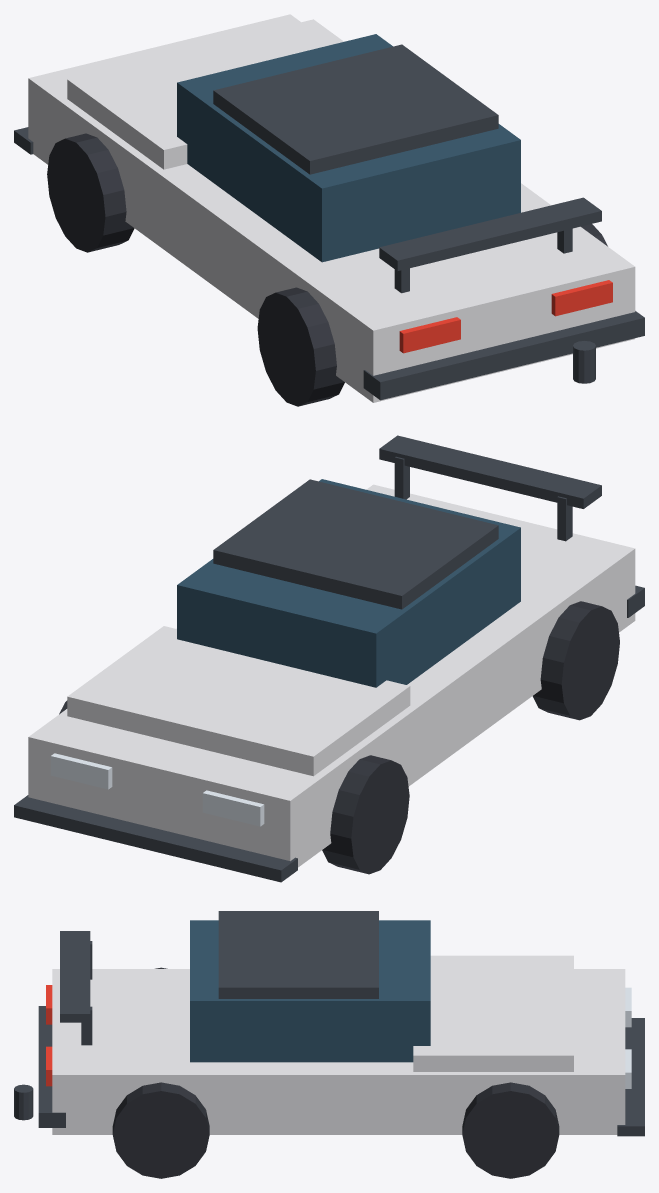
The model's file is falcon_r.glb.
3 views of the same model, one above another, from view 1: azimuth 30°, elevation 25°; view 2: azimuth 150°, elevation 25°; view 3: azimuth 270°, elevation 25° (orthographic). The views are drawn at different scales.
Visible parts, largest first — view 1: body, cabin, roof, hood, wheel_fl, wheel_rl, rear_bumper, spoiler, taillight_0.5277999999999999, taillight_-0.5277999999999999, exhaust; view 2: body, cabin, hood, roof, wheel_fl, wheel_rl, front_splitter, spoiler, headlight_-0.5277999999999999, headlight_0.5277999999999999, spoiler_l; view 3: body, cabin, hood, roof, wheel_fr, wheel_rr, spoiler, front_splitter, rear_bumper, exhaust.
Part boxes in pixels (x1,y1,x2,y2): body: (28,14,635,402); cabin: (177,34,520,262); roof: (213,44,498,174); hood: (67,19,343,169); wheel_fl: (47,133,134,252); wheel_rl: (257,287,344,406); rear_bumper: (363,311,644,400); spoiler: (379,197,601,271); taillight_0.5277999999999999: (551,280,612,316); taillight_-0.5277999999999999: (399,317,460,353); exhaust: (573,341,595,383); body: (28,484,635,867); cabin: (177,479,520,687); hood: (67,626,410,776); roof: (213,479,498,609); wheel_fl: (322,755,409,874); wheel_rl: (532,601,619,720); front_splitter: (14,795,297,882); spoiler: (379,435,601,508); headlight_-0.5277999999999999: (202,790,264,826); headlight_0.5277999999999999: (50,753,112,789); spoiler_l: (557,496,572,541); body: (52,969,625,1134); cabin: (190,920,430,1062); hood: (413,955,573,1071); roof: (218,911,378,998); wheel_fr: (462,1082,559,1178); wheel_rr: (112,1082,209,1178); spoiler: (60,931,90,1022); front_splitter: (617,1018,644,1136); rear_bumper: (38,1006,65,1127); exhaust: (14,1084,33,1120).
Bounding box in the file's own units: 2.11 × 1.34 × 4.57.
